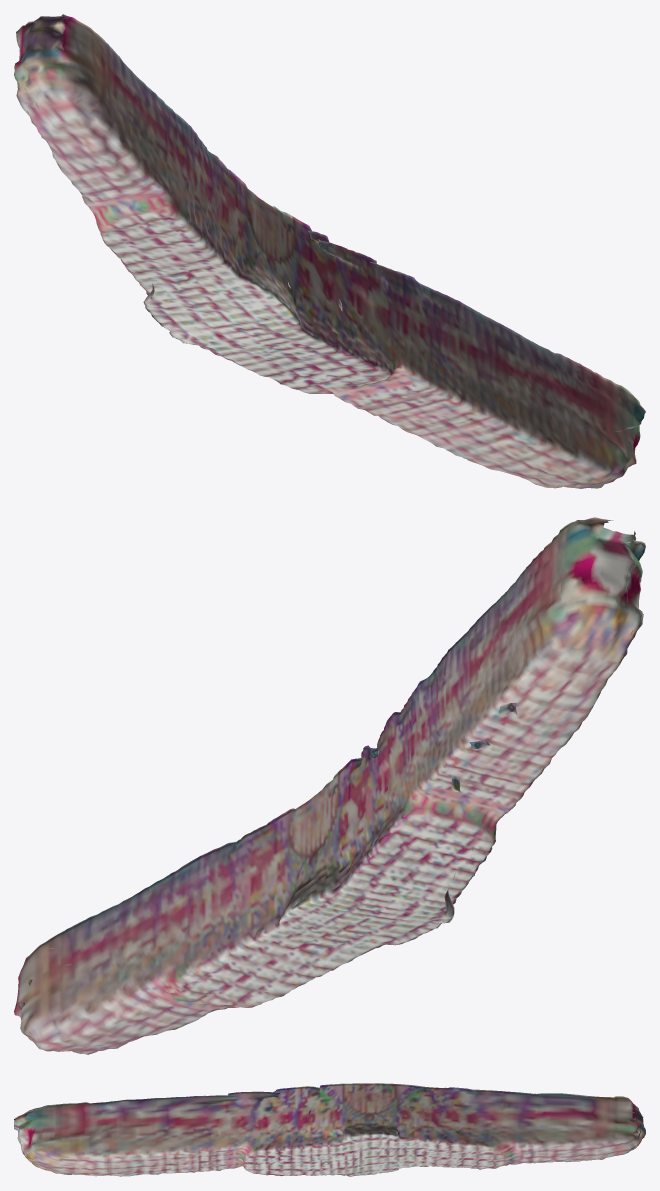
The model's file is collider.glb.
The picture shows the model from 3 angles, top to bottom: view 1: azimuth 30°, elevation 25°; view 2: azimuth 150°, elevation 25°; view 3: azimuth 270°, elevation 25°; orthographic projection. The views are drawn at different scales.
Visible parts, largest first — view 1: world; view 2: world; view 3: world.
Boxes of the visible parts, box(x1,y1,x2,y2) form: world: box(14, 14, 645, 488); world: box(14, 517, 645, 1054); world: box(14, 1083, 645, 1176).
Size of the model in its own units: 14.81 by 9.99 by 79.9.
